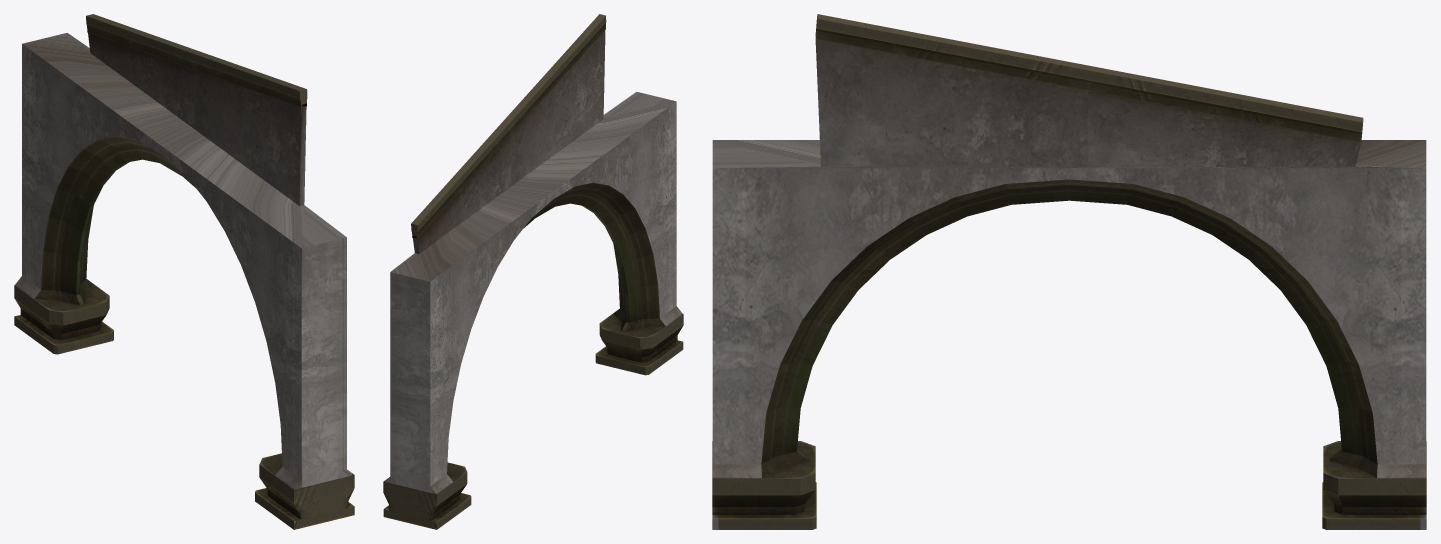
The model's file is Stair 1.fbx.
3 views of the same model, side by side, from view 1: azimuth 30°, elevation 25°; view 2: azimuth 150°, elevation 25°; view 3: azimuth 270°, elevation 25° (orthographic). The views are drawn at different scales.
Visible parts, largest first — view 1: FishArchBMerged2; view 2: FishArchBMerged2; view 3: FishArchBMerged2.
Boxes of the visible parts, x1,y1,x2,y2 form: FishArchBMerged2: (14,14,354,529); FishArchBMerged2: (383,14,683,529); FishArchBMerged2: (712,14,1426,529).
Bounding box in the file's own units: 262 × 1638 × 2088.
